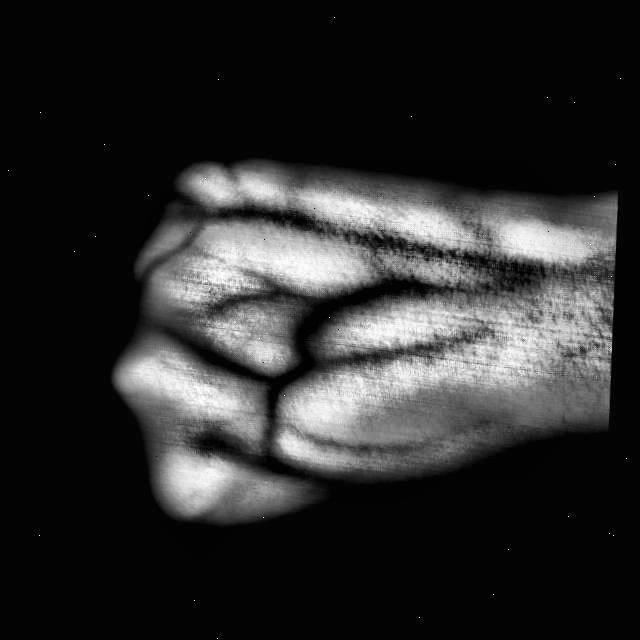Vein: (327, 221, 517, 273), (330, 273, 515, 313)
